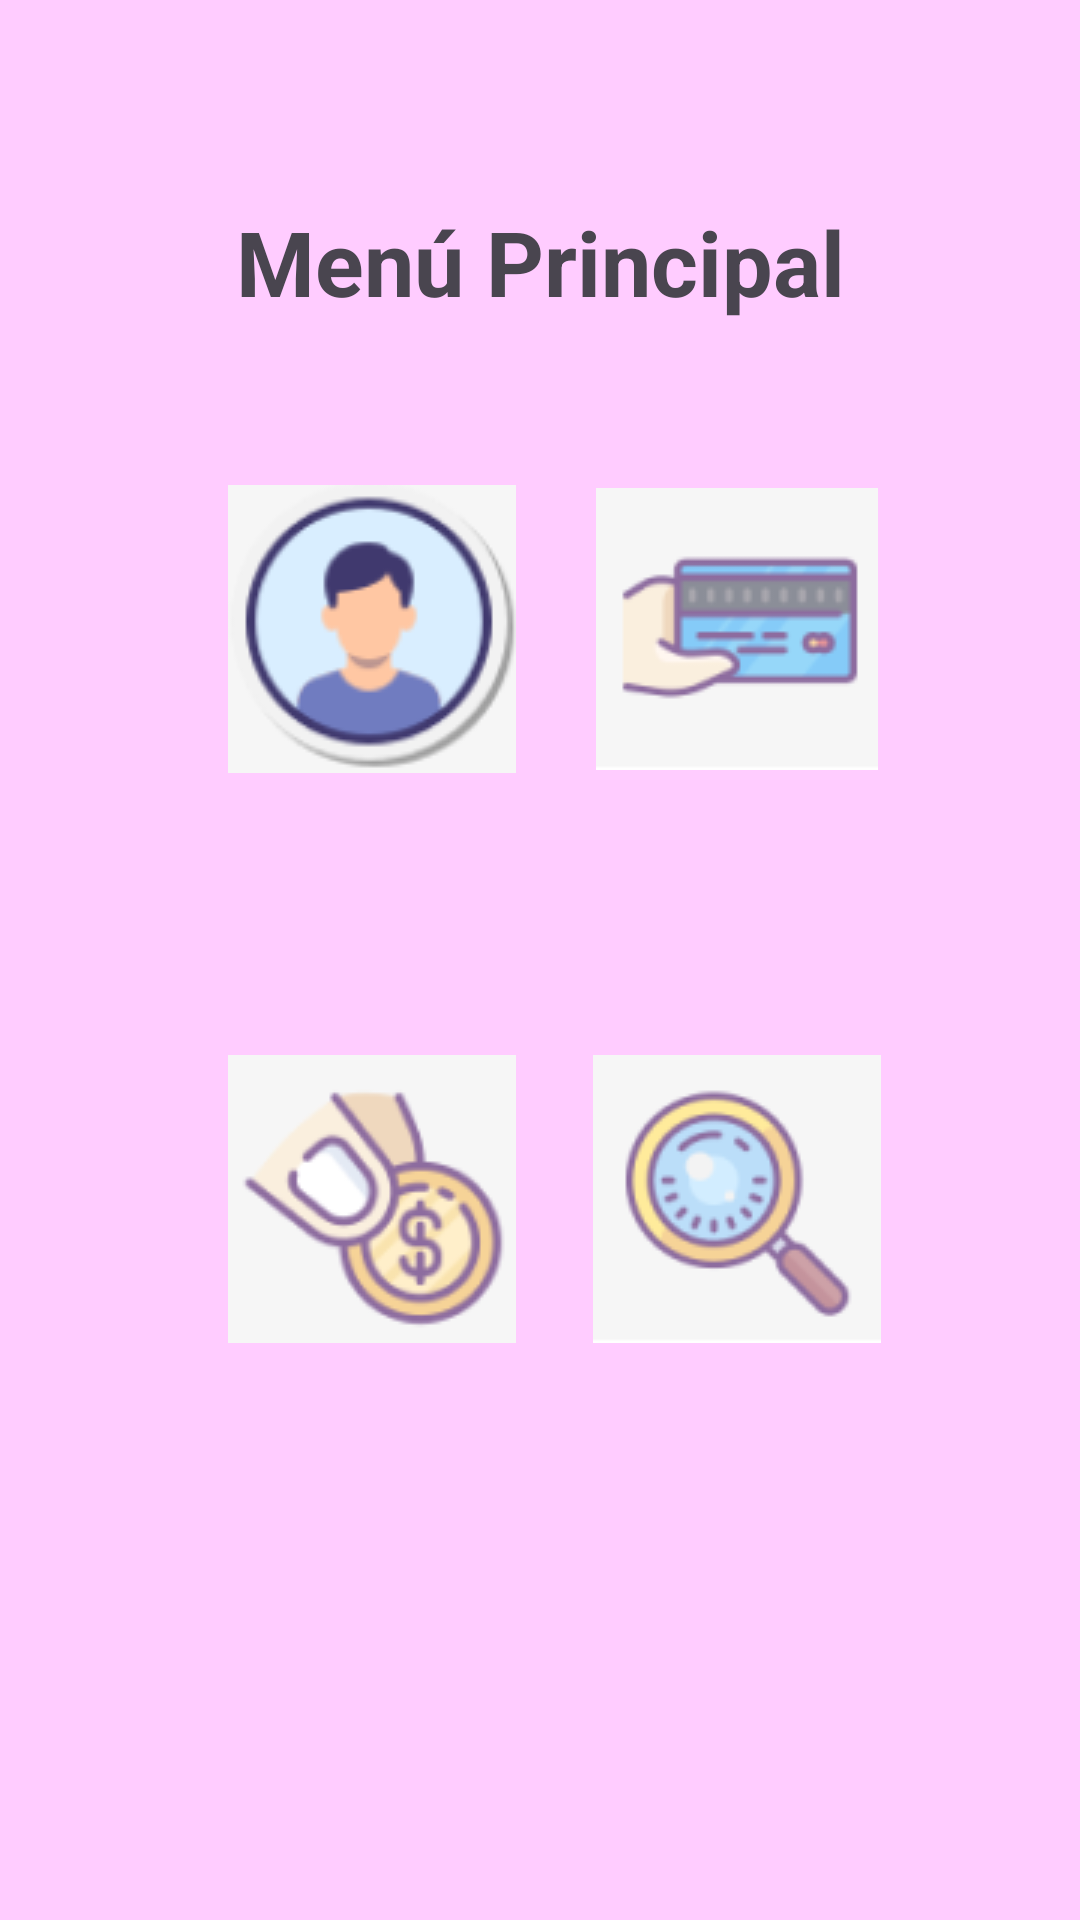

Icons on this 1080 x 1920 Android screen, each with the point to tap as (x=x, y=y):
pagaractividad: (x=372, y=1199)
pagarcuota: (x=737, y=629)
